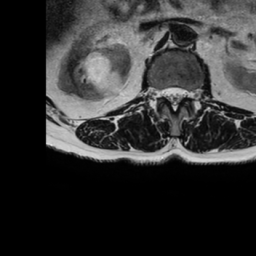CCS_normal: (171, 78, 179, 115)
LFS_normal: (187, 83, 195, 103)
LLS_normal: (179, 80, 187, 104)
RFS_normal: (153, 81, 161, 104)
RLS_normal: (161, 79, 171, 104)
